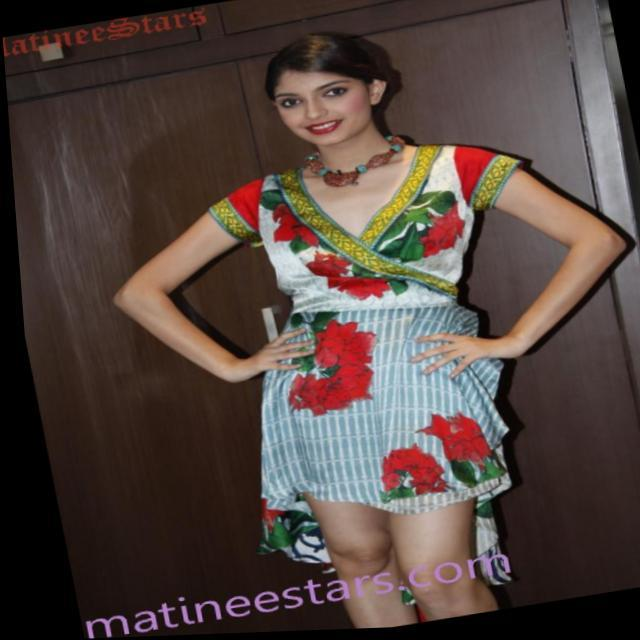Nonhelmet: (261, 29, 403, 150)
